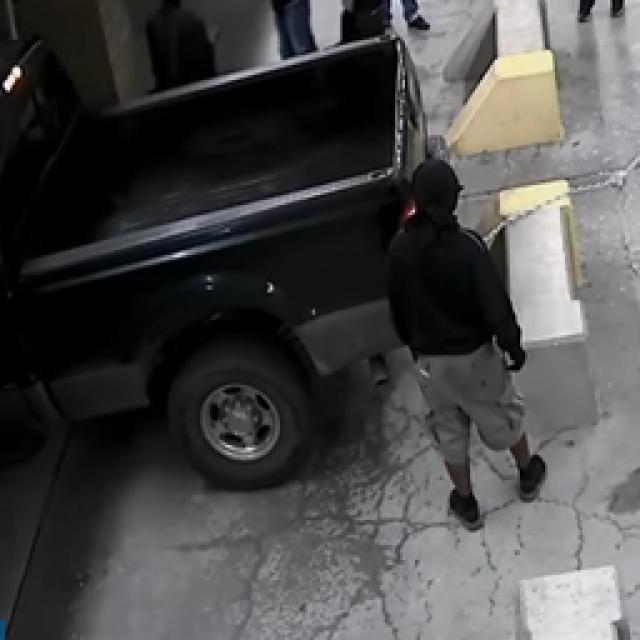person: (390, 155, 542, 528), (270, 0, 315, 55), (340, 0, 382, 40), (402, 0, 428, 30), (575, 0, 590, 20), (608, 0, 622, 15), (382, 0, 390, 22)
